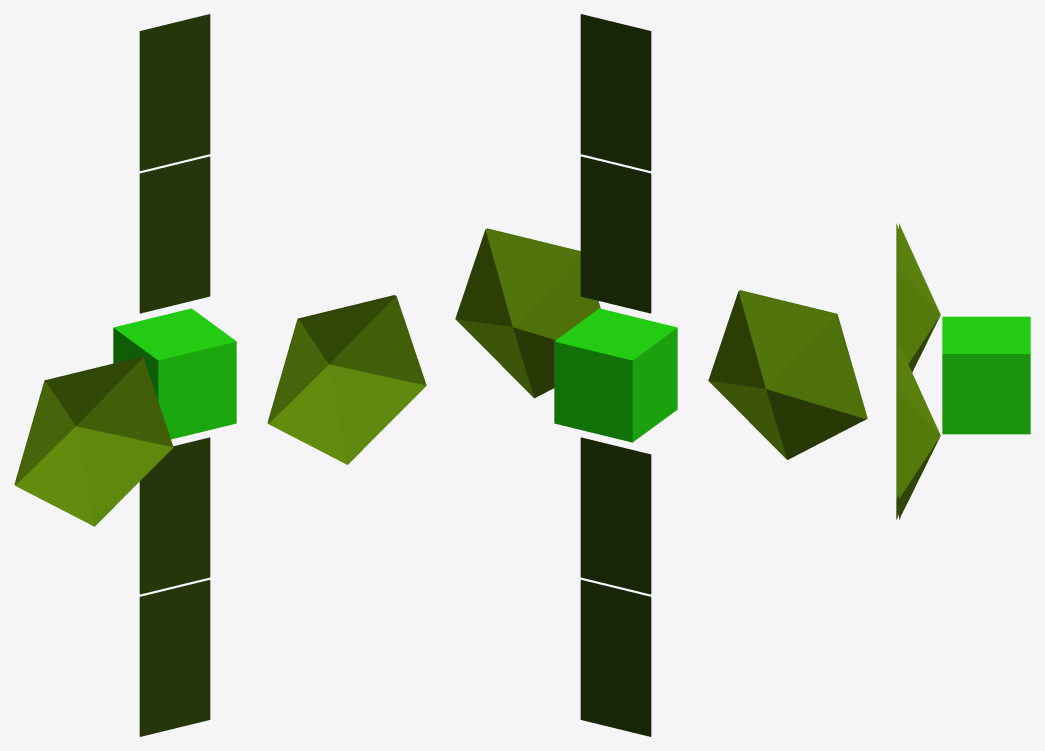
Rendered from tdrs_simple_tri.obj.
3 views of the same model, side by side, from view 1: azimuth 30°, elevation 25°; view 2: azimuth 150°, elevation 25°; view 3: azimuth 270°, elevation 25° (orthographic). The views are drawn at different scales.
Visible parts, largest first — view 1: Cone; view 2: Cone; view 3: Cone.
Boxes of the visible parts, left/top/right/bottom form: Cone: left=14, top=14, right=426, bottom=736; Cone: left=455, top=14, right=867, bottom=736; Cone: left=896, top=223, right=1030, bottom=519.
Size of the model in its own units: 10.5 by 17.21 by 3.04.
